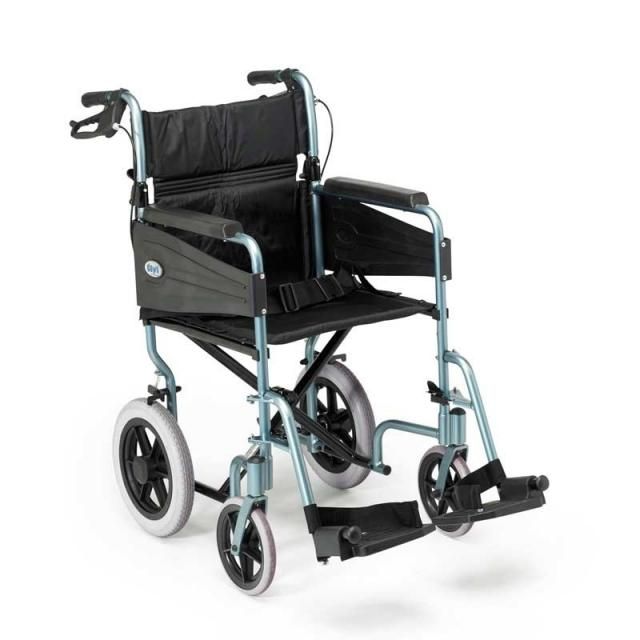wheelchair: (59, 50, 574, 605)
